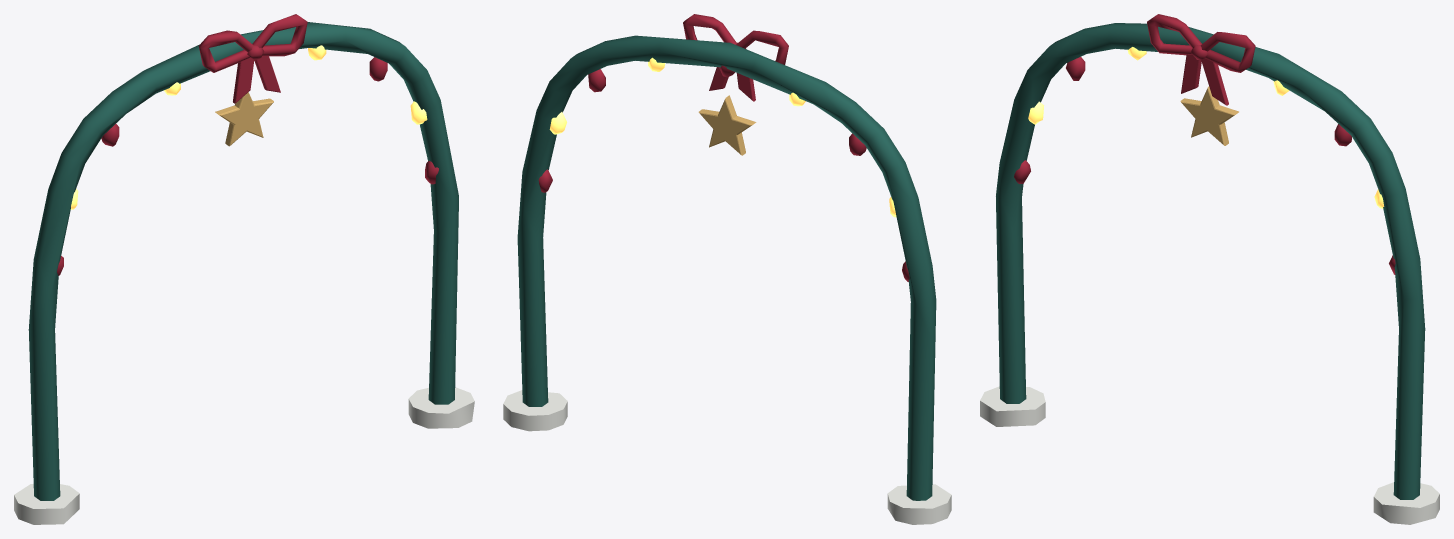
The model's file is lightarch.glb.
The picture shows the model from 3 angles, left to right: view 1: azimuth 30°, elevation 25°; view 2: azimuth 150°, elevation 25°; view 3: azimuth 330°, elevation 25°; orthographic projection. The views are drawn at different scales.
Visible parts, largest first — view 1: pine, berry, cream, brass, light; view 2: pine, cream, berry, brass, light; view 3: pine, berry, cream, brass, light.
Boxes of the visible parts, left/top/right/bottom form: pine: left=28, top=22, right=458, bottom=500; berry: left=57, top=14, right=438, bottom=275; cream: left=14, top=387, right=474, bottom=524; brass: left=215, top=92, right=273, bottom=146; light: left=70, top=45, right=427, bottom=209; pine: left=517, top=35, right=936, bottom=500; cream: left=503, top=390, right=951, bottom=524; berry: left=538, top=14, right=909, bottom=281; brass: left=698, top=95, right=756, bottom=155; light: left=549, top=57, right=896, bottom=217; pine: left=996, top=23, right=1425, bottom=499; berry: left=1014, top=14, right=1395, bottom=274; cream: left=980, top=386, right=1439, bottom=524; brass: left=1180, top=86, right=1238, bottom=145; light: left=1028, top=47, right=1384, bottom=208.
Size of the model in its own units: 2.98 by 2.81 by 0.3798.
